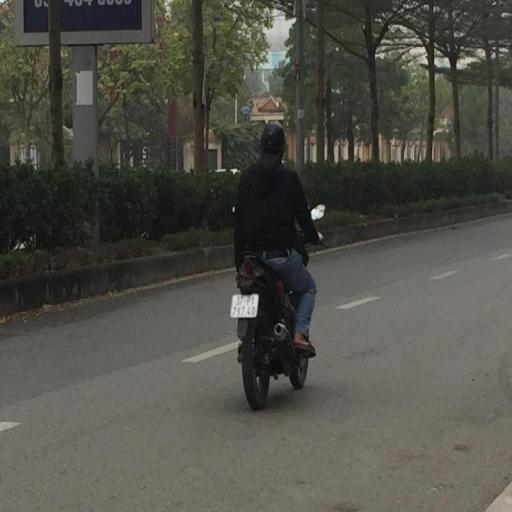bike: (229, 119, 325, 412)
numberplate: (230, 292, 260, 320)
with helmet: (258, 124, 289, 158)
